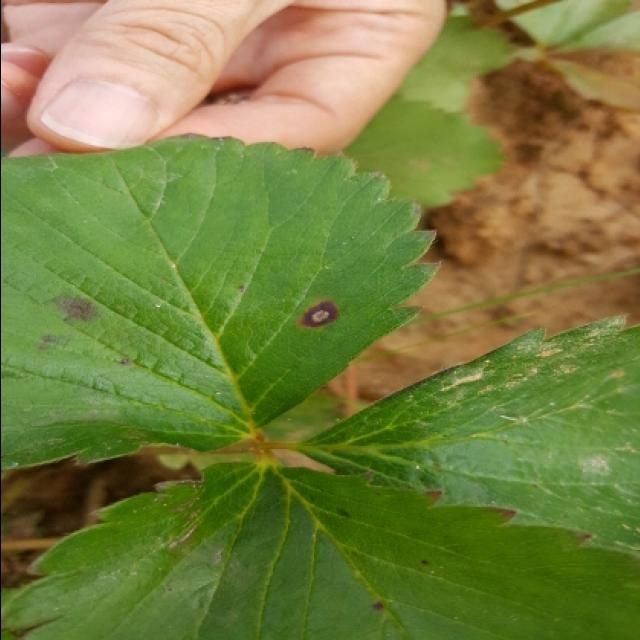Leaf Spot: (2, 133, 442, 471), (2, 462, 640, 638)
